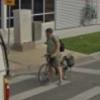bicycles: (38, 52, 75, 86)
